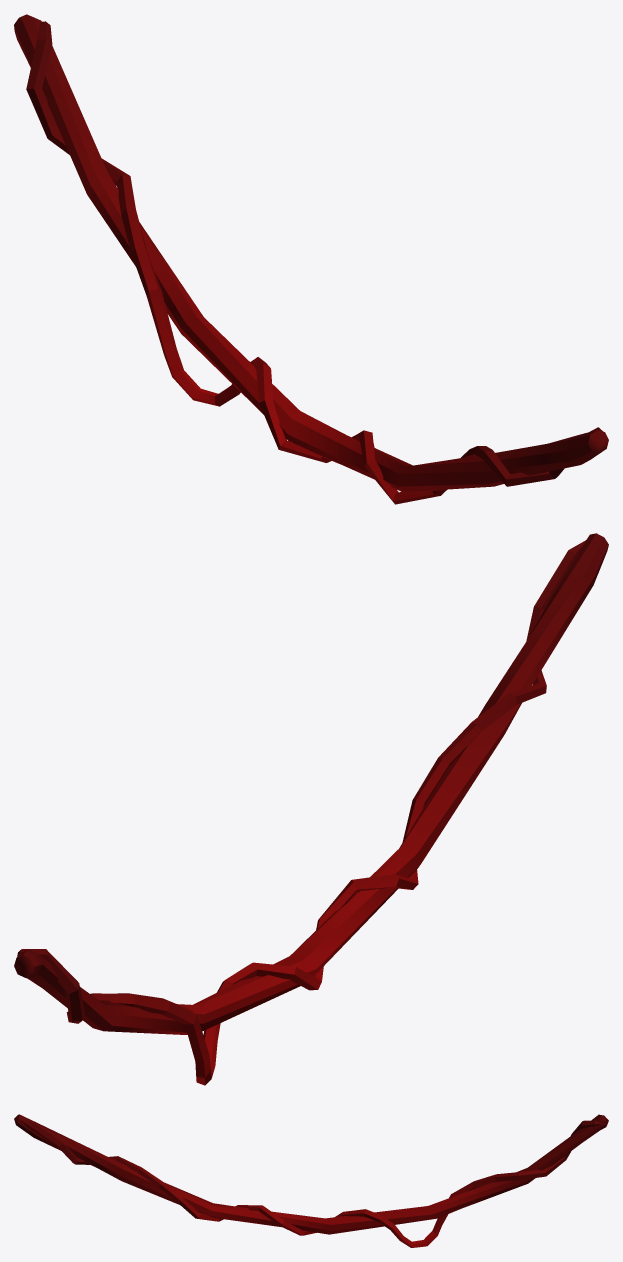
The model's file is SM_Env_Vines_05.gltf.
3 views of the same model, one above another, from view 1: azimuth 30°, elevation 25°; view 2: azimuth 150°, elevation 25°; view 3: azimuth 270°, elevation 25° (orthographic). The views are drawn at different scales.
Parts seen in each view (by area): view 1: SM_Env_Vines_05; view 2: SM_Env_Vines_05; view 3: SM_Env_Vines_05.
Boxes of the visible parts, x1,y1,x2,y2 form: SM_Env_Vines_05: (14, 14, 608, 504); SM_Env_Vines_05: (14, 533, 608, 1085); SM_Env_Vines_05: (14, 1114, 608, 1247).
Size of the model in its own units: 0.2546 by 1.22 by 4.94.
